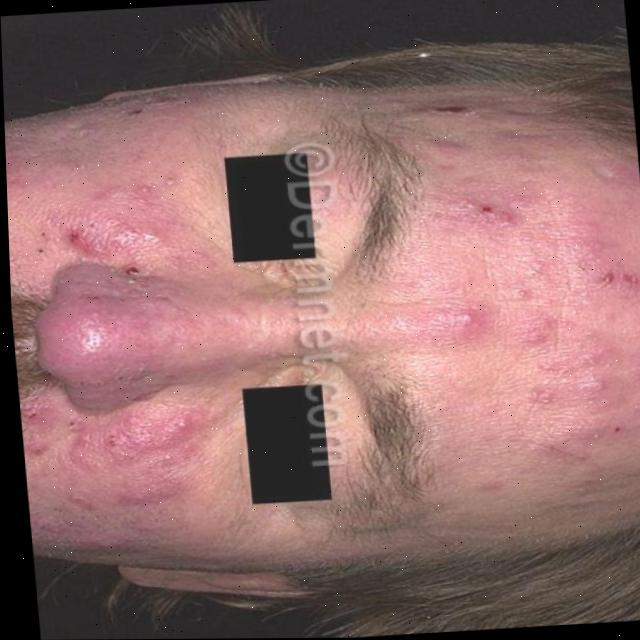Rosacea: (421, 92, 640, 459), (52, 206, 239, 508)
